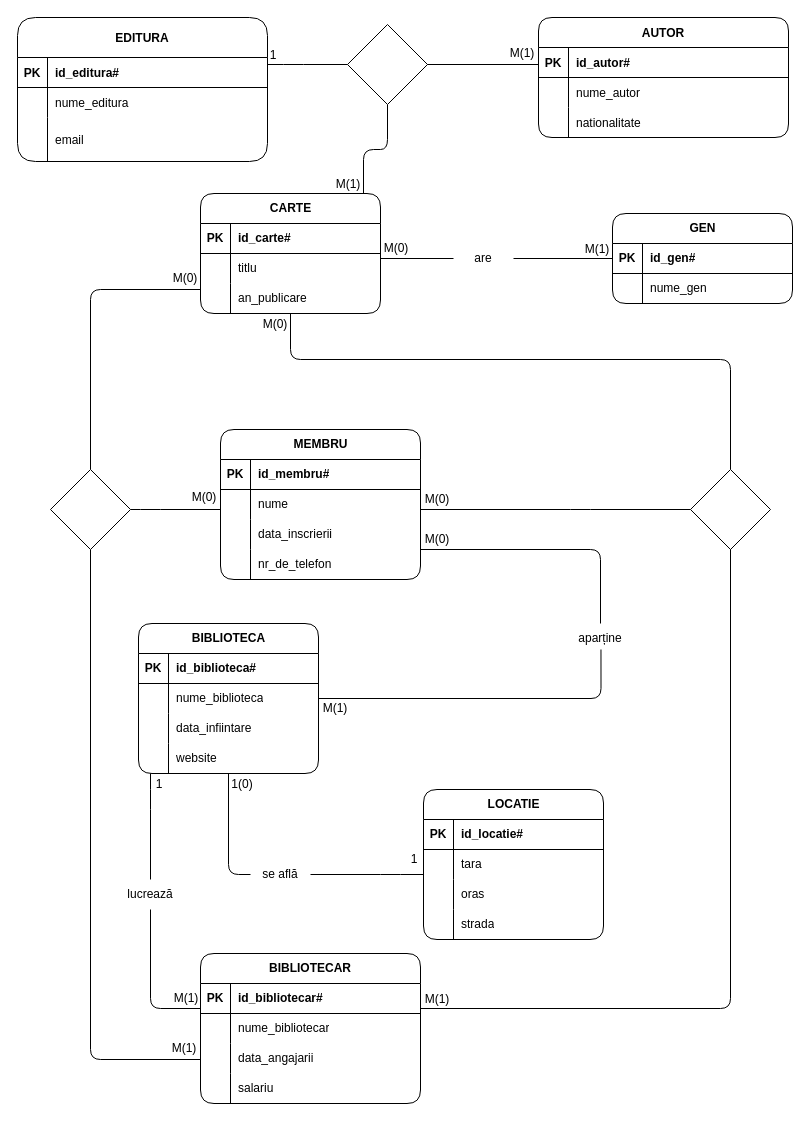
Image size: 810x1121. Some labels were removed from this diagram. The centre of each missing label's shape, as x and y in pixels:
cumpara: (730,509)
imprumuta: (90,509)
publică: (387,64)
